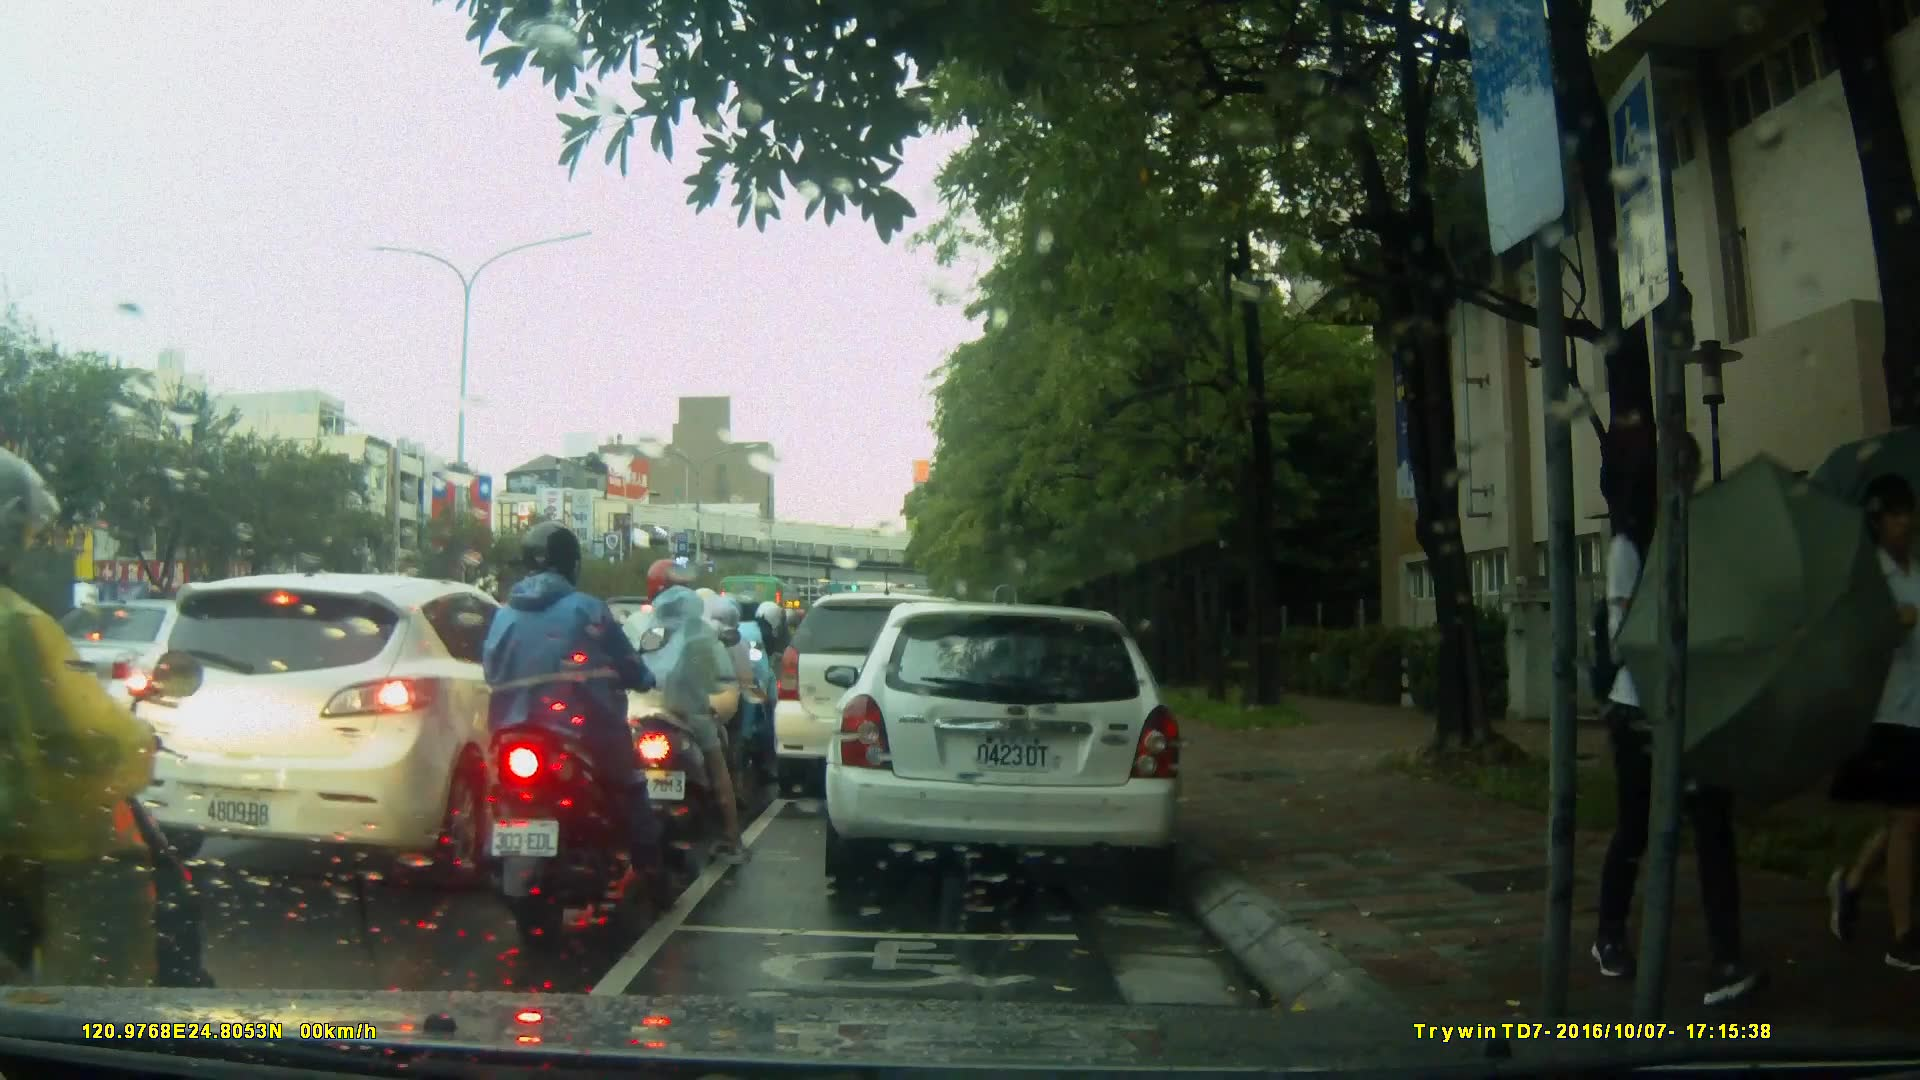pedestrian: (1598, 427, 1760, 994), (1832, 468, 1920, 980)
rider: (1, 457, 220, 1080), (467, 520, 668, 938), (595, 560, 743, 865), (642, 581, 764, 823), (717, 594, 788, 767)
vehicle: (110, 570, 588, 884), (822, 604, 1188, 883), (774, 595, 995, 802), (19, 599, 251, 732)
